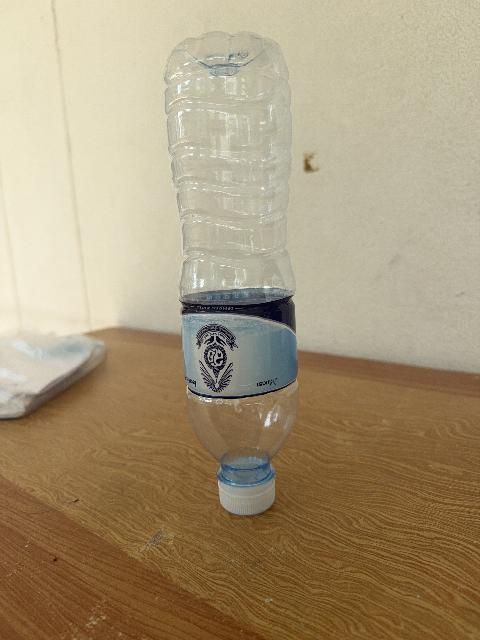bottle: (165, 32, 297, 514)
